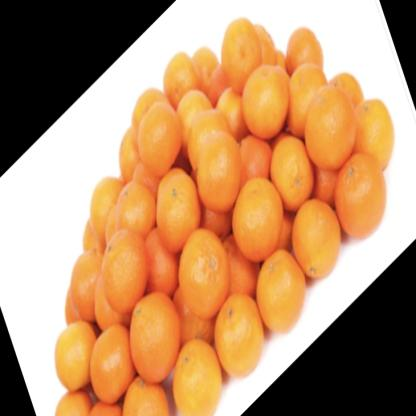fresh: (52, 14, 396, 416)
